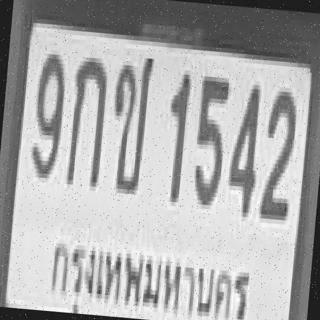A01: (65, 54, 108, 185)
A10: (107, 49, 154, 193)
N01: (163, 73, 191, 202)
N02: (258, 92, 298, 222)
N04: (226, 80, 264, 214)
N05: (192, 70, 231, 204)
N09: (28, 49, 66, 174)
P04: (44, 228, 255, 320)
